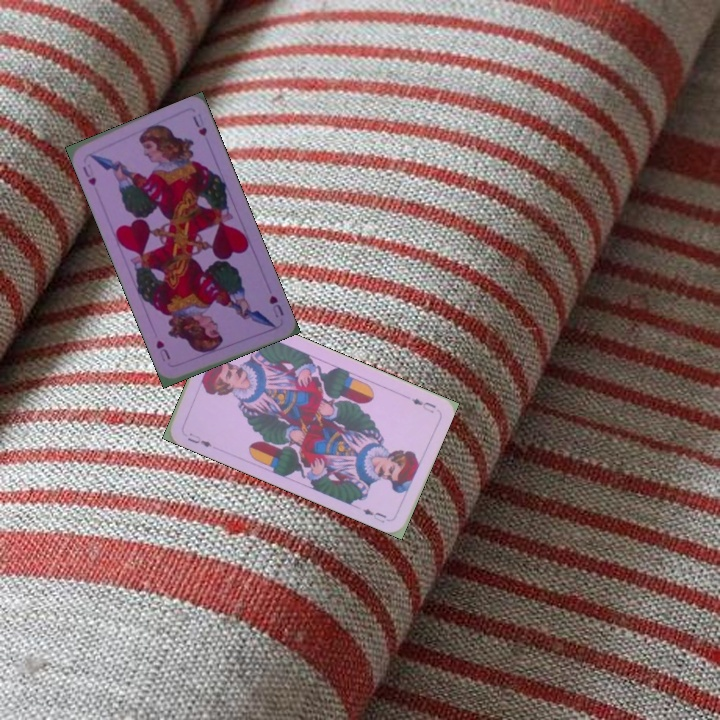EU: (408, 394, 439, 416), (183, 431, 214, 450)
HU: (265, 291, 286, 320), (78, 162, 99, 188)
